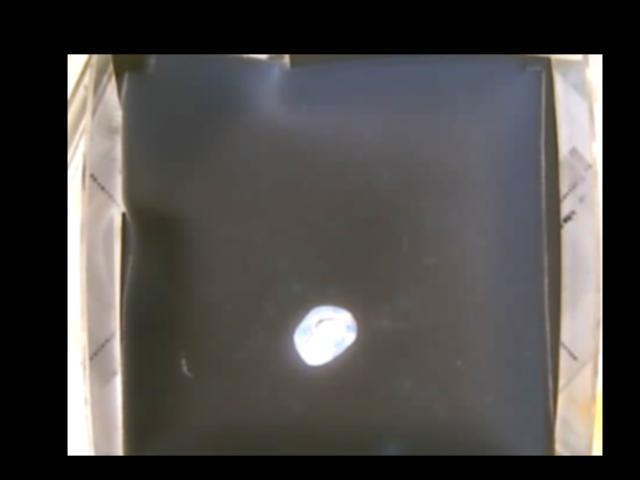Pebble: (294, 307, 360, 366)
